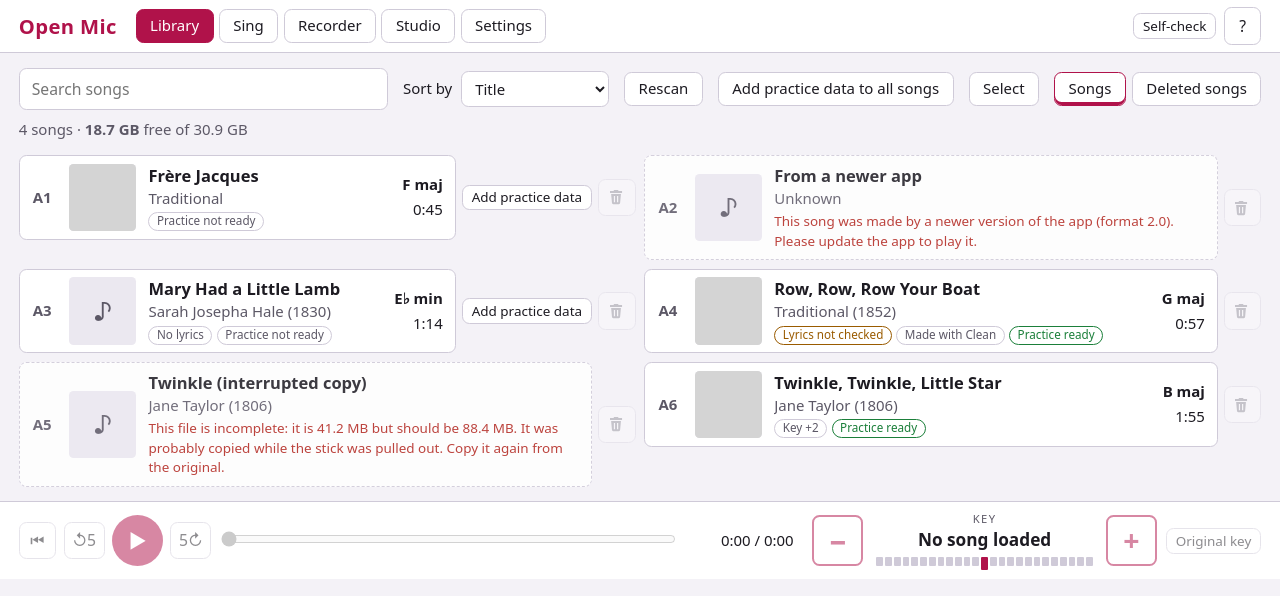
it: a failure says why and offers to try again
Click the 1st button with class "library__practice-add": [527, 198] box [462,185,592,210]
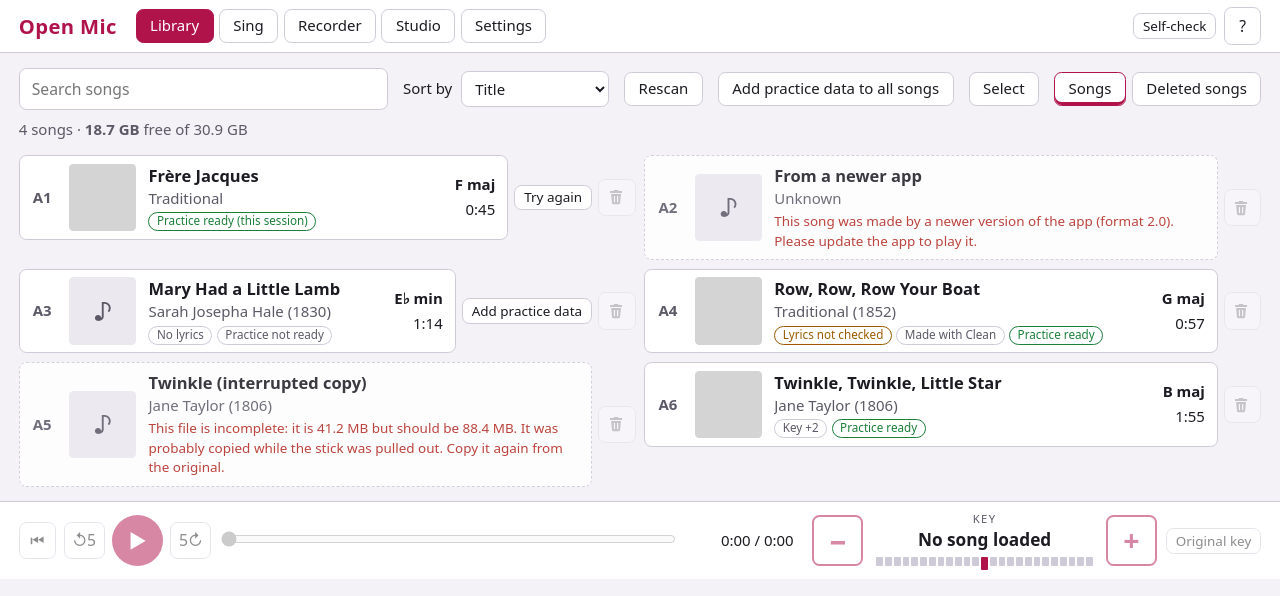
Expected: the element with class "title-strip__row" shows "Practice ready (this session)", [19,155,508,240]
